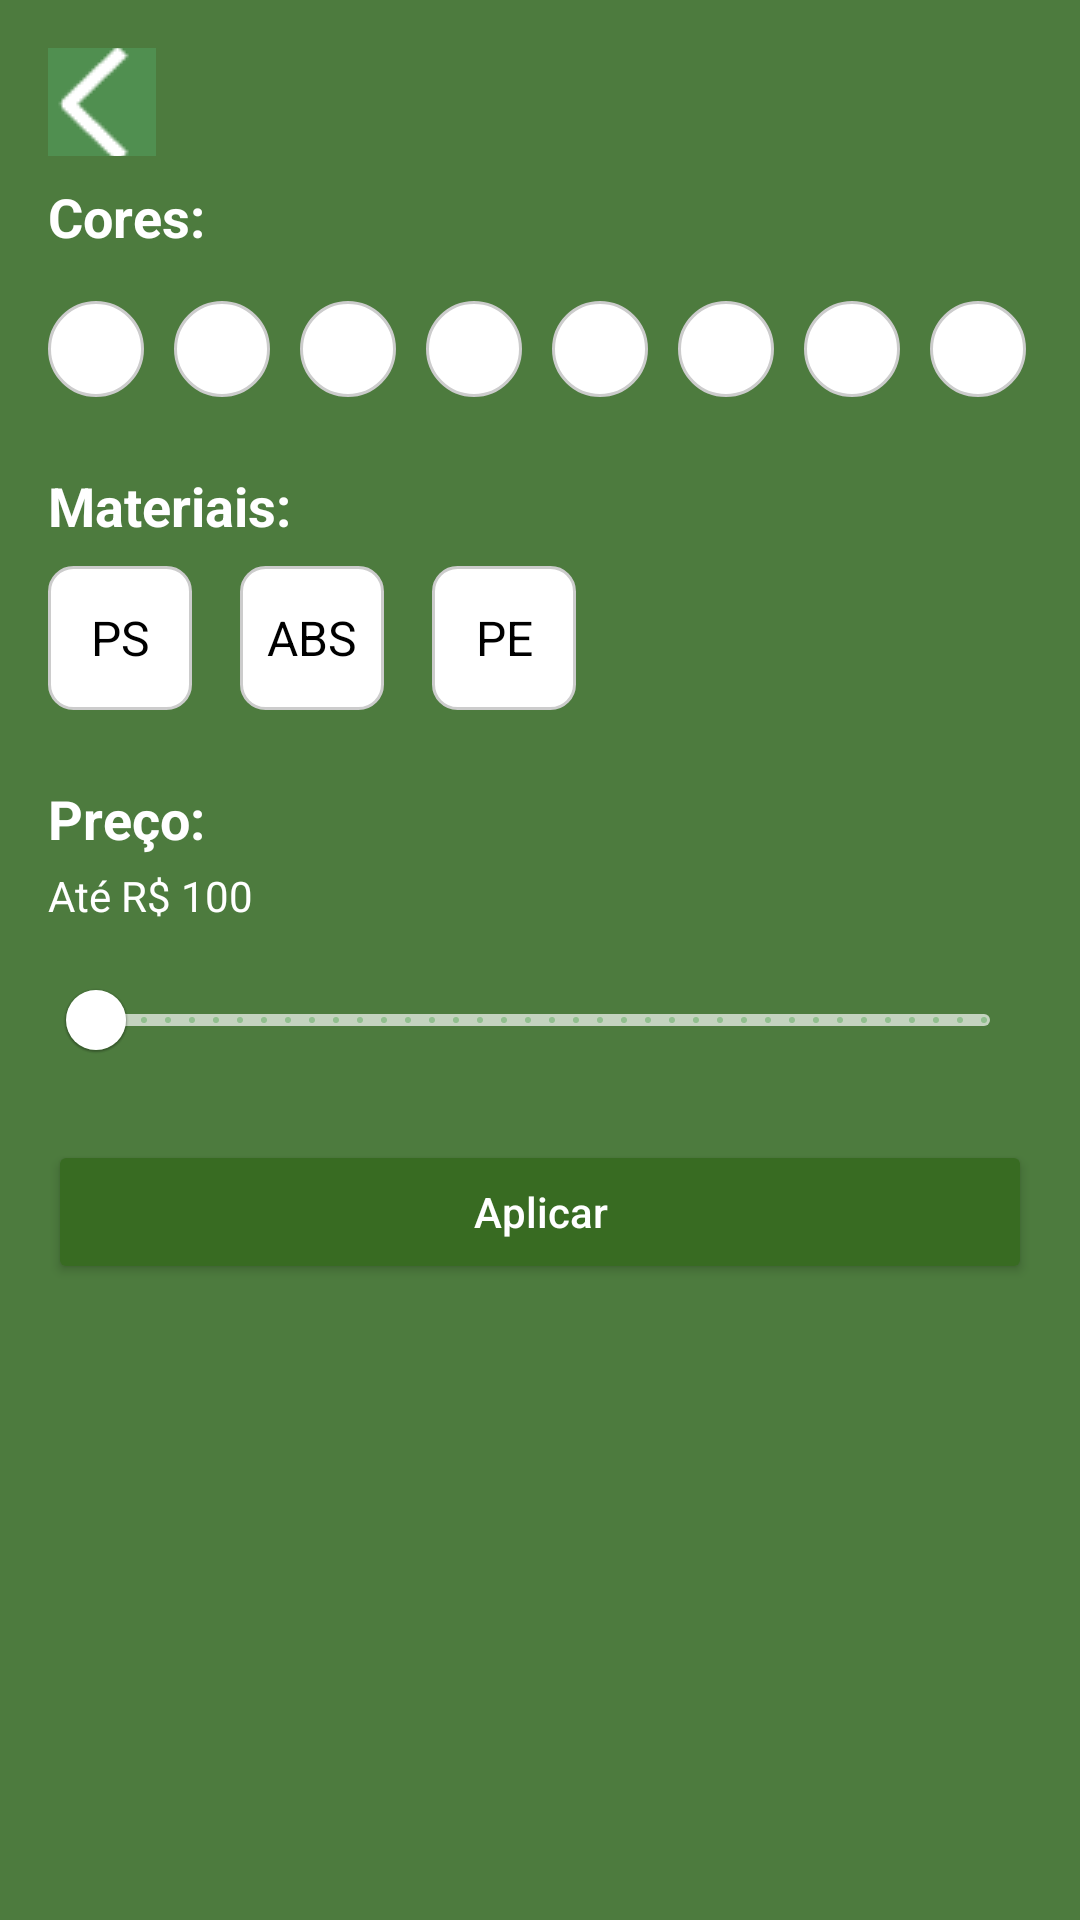

Named icons in this screenshot (1080px x 1920px) and their centers, point (x, y):
Voltar: point (102, 102)
